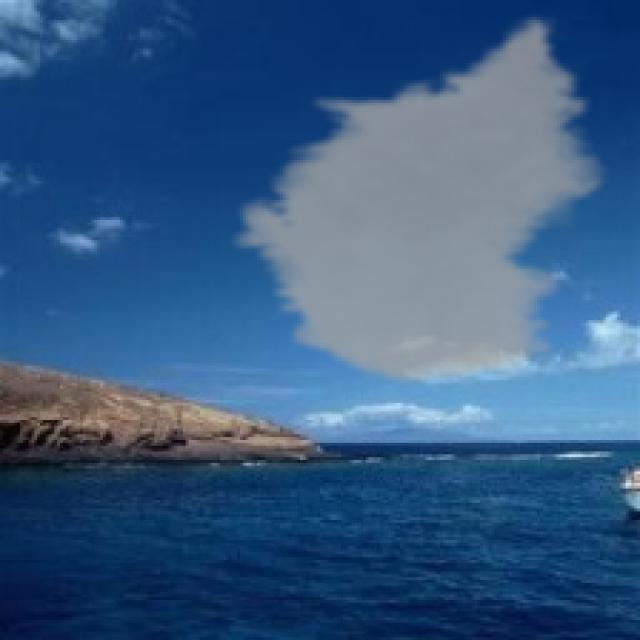Smoke: (225, 14, 618, 389)
